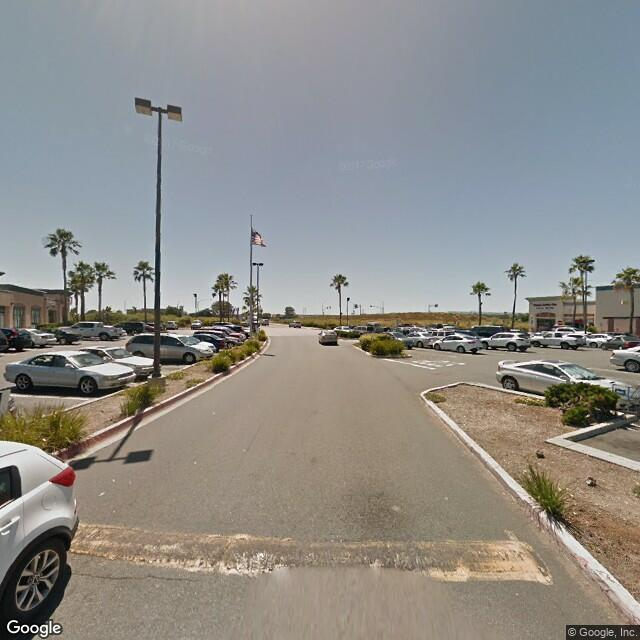litter: (583, 479, 599, 488)
